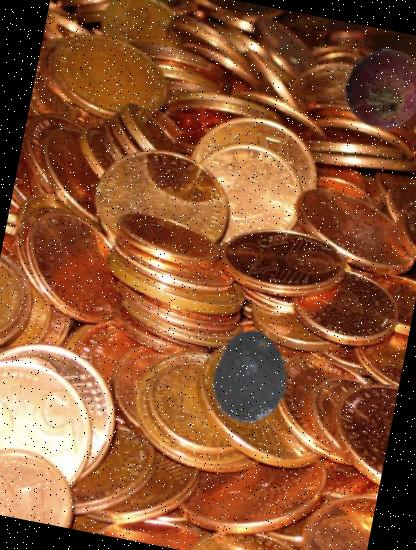Avocado: (199, 326, 302, 428)
Onion: (337, 41, 416, 137)
